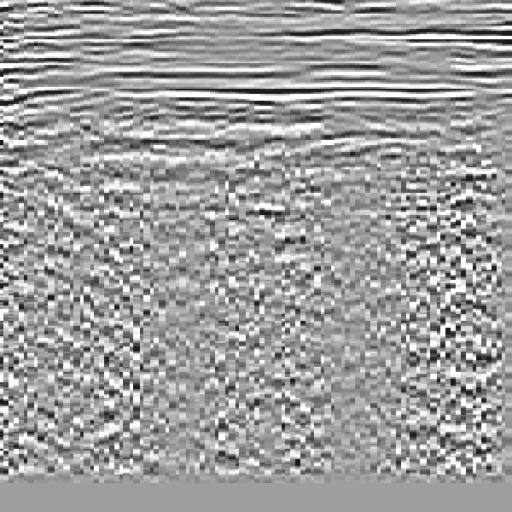metalic: (6, 43, 202, 291)
